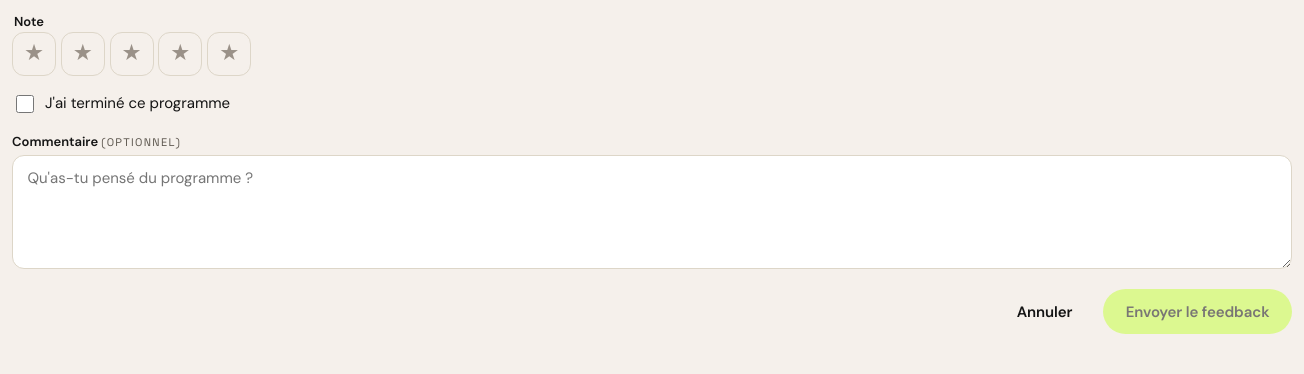
Test case: FeedbackForm › clicking a rating star enables the submit button
Click the radio button with test id "feedback-rating-4" at (180, 54), box [158,32,202,76]
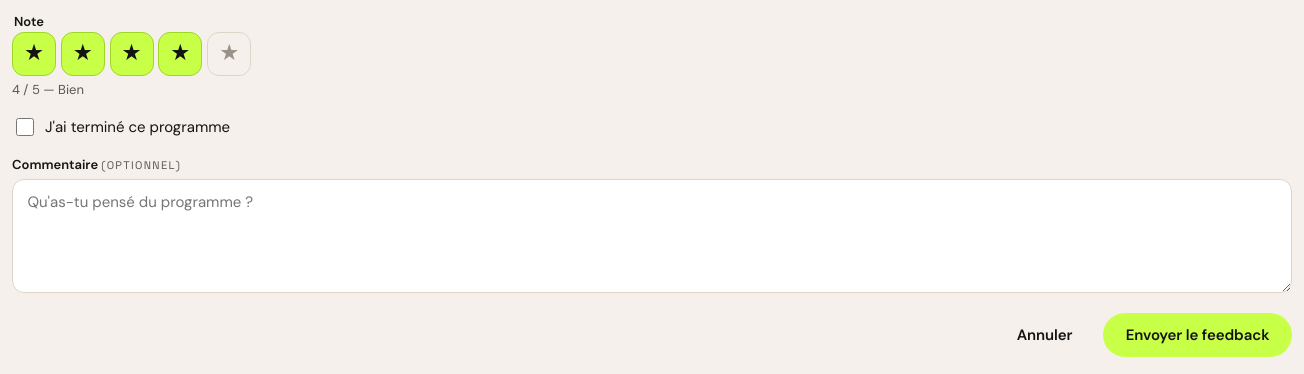
Now the button with test id "feedback-submit" is enabled, box [1103,313,1292,357]
